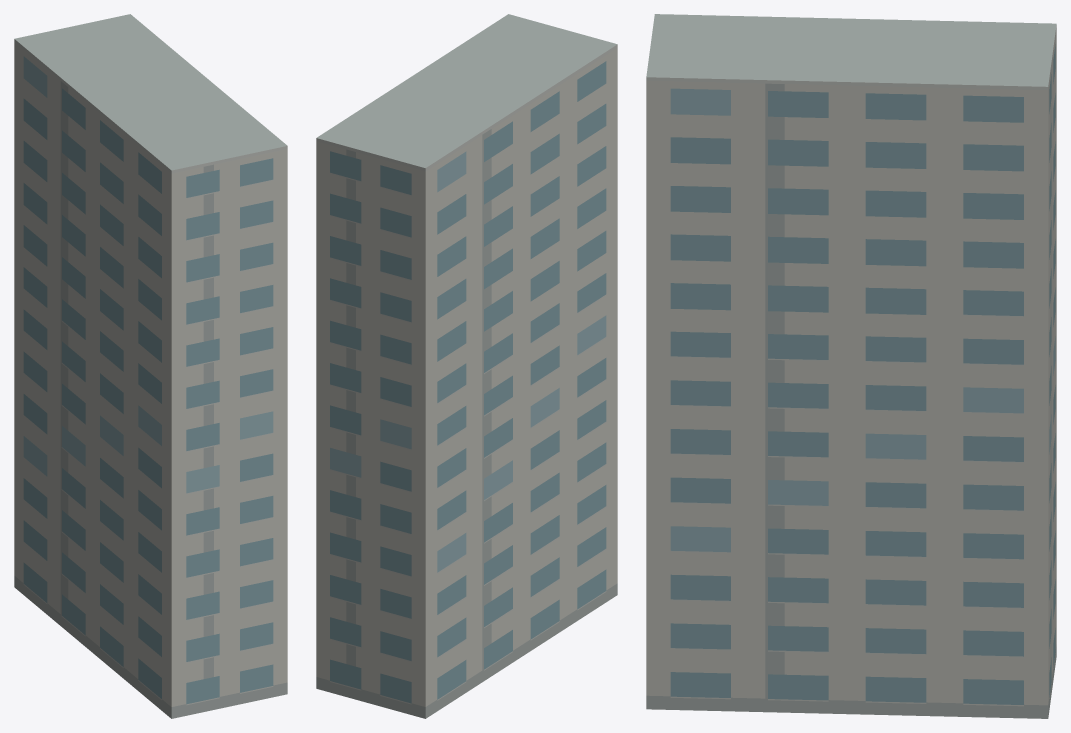
The model's file is residential-2256cf01-a633-4d10-b854-077bff248c50.glb.
3 views of the same model, side by side, from view 1: azimuth 30°, elevation 25°; view 2: azimuth 150°, elevation 25°; view 3: azimuth 270°, elevation 25° (orthographic). The views are drawn at different scales.
Visible parts, largest first — view 1: residential-2256cf01-a633-4d10-b854-077bff248c50.tmp; view 2: residential-2256cf01-a633-4d10-b854-077bff248c50.tmp; view 3: residential-2256cf01-a633-4d10-b854-077bff248c50.tmp.
Boxes of the visible parts, x1,y1,x2,y2 form: residential-2256cf01-a633-4d10-b854-077bff248c50.tmp: (14, 14, 287, 718); residential-2256cf01-a633-4d10-b854-077bff248c50.tmp: (316, 14, 617, 718); residential-2256cf01-a633-4d10-b854-077bff248c50.tmp: (646, 14, 1056, 718).
Size of the model in its own units: 10.64 by 43 by 25.31.
